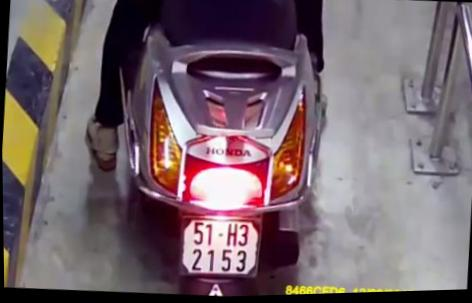LP: (172, 211, 263, 284)
